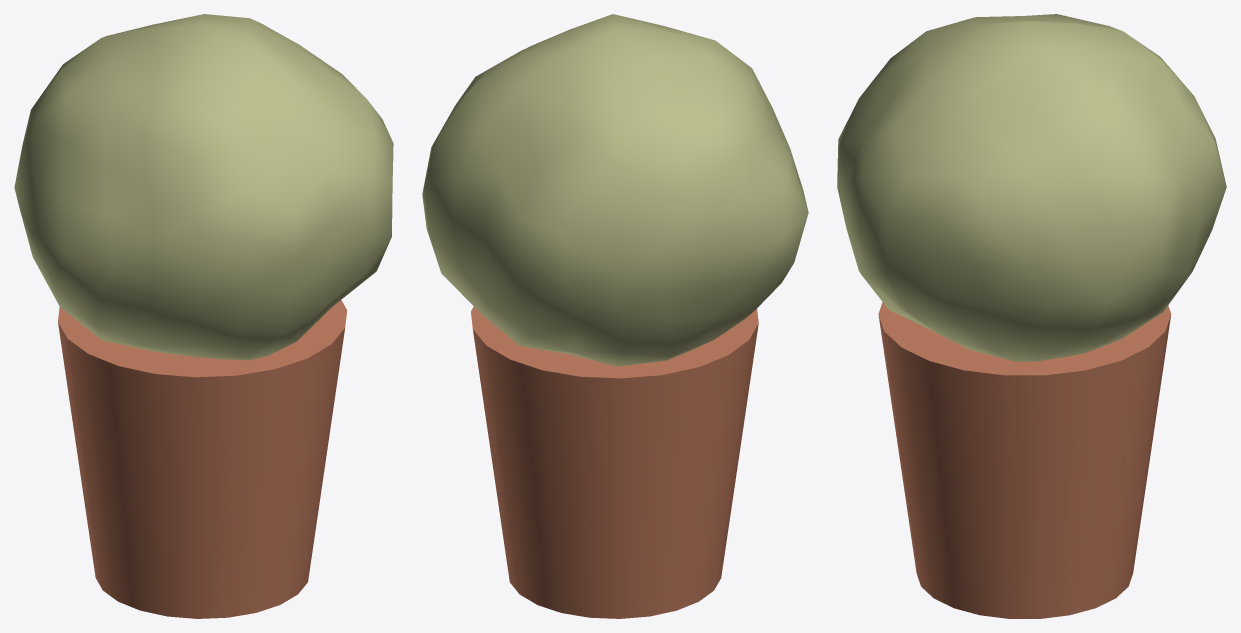
File: NPR_25_1001__MOD__GardenFurniture__PlantersAndPots__TerracottaPlanter__Var-01__.glb
3 views of the same model, side by side, from view 1: azimuth 30°, elevation 25°; view 2: azimuth 150°, elevation 25°; view 3: azimuth 270°, elevation 25° (orthographic).
Parts seen in each view (by area): view 1: NPR_25_1001__MOD__GardenFurniture__PlantersAndPots__Terracot; view 2: NPR_25_1001__MOD__GardenFurniture__PlantersAndPots__Terracot; view 3: NPR_25_1001__MOD__GardenFurniture__PlantersAndPots__Terracot.
Part boxes in pixels (box(x1,y1,x2,y2)): NPR_25_1001__MOD__GardenFurniture__PlantersAndPots__Terracot: box(14, 14, 393, 618); NPR_25_1001__MOD__GardenFurniture__PlantersAndPots__Terracot: box(422, 14, 808, 618); NPR_25_1001__MOD__GardenFurniture__PlantersAndPots__Terracot: box(837, 14, 1226, 618).
Size of the model in its own units: 0.6127 by 0.9556 by 0.6121.
